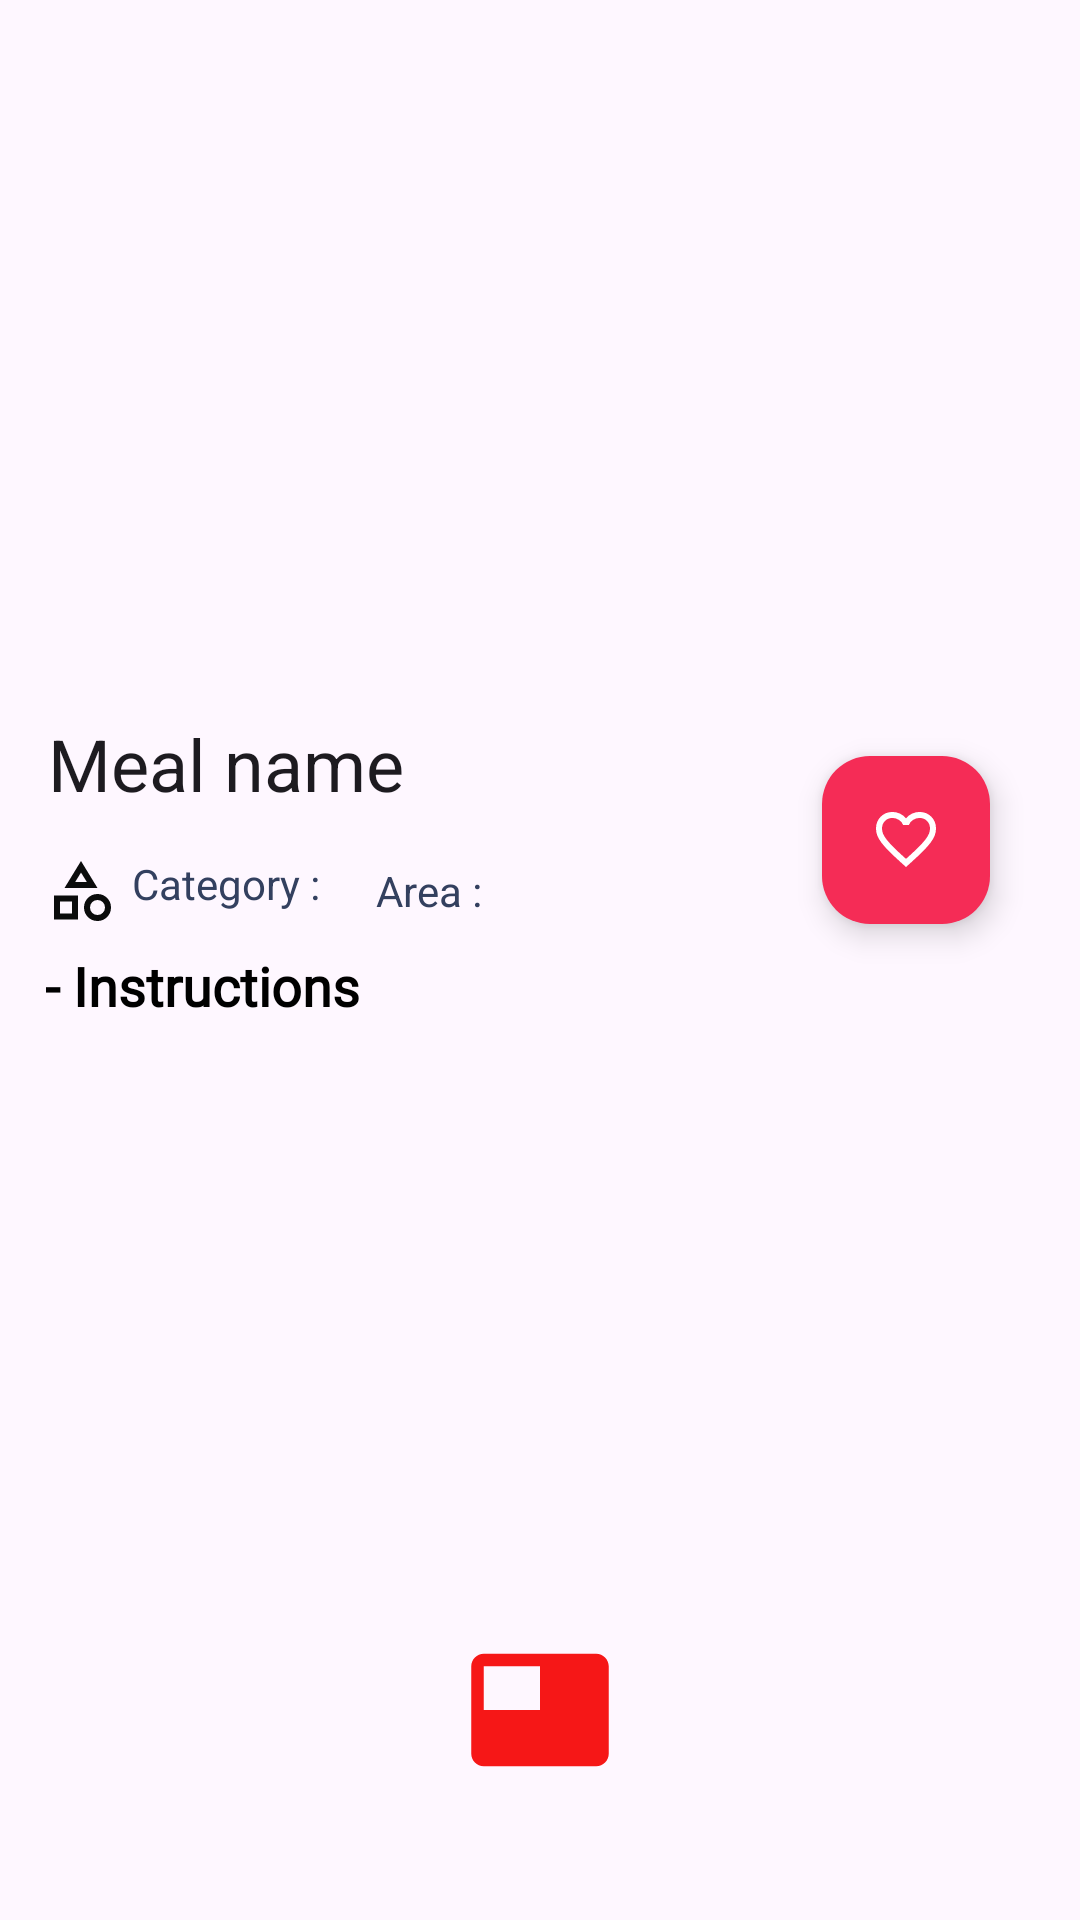

Icon click points for this 1080×1920 phone screenshot, format point (x, y):
faviroits: point (906, 840)
